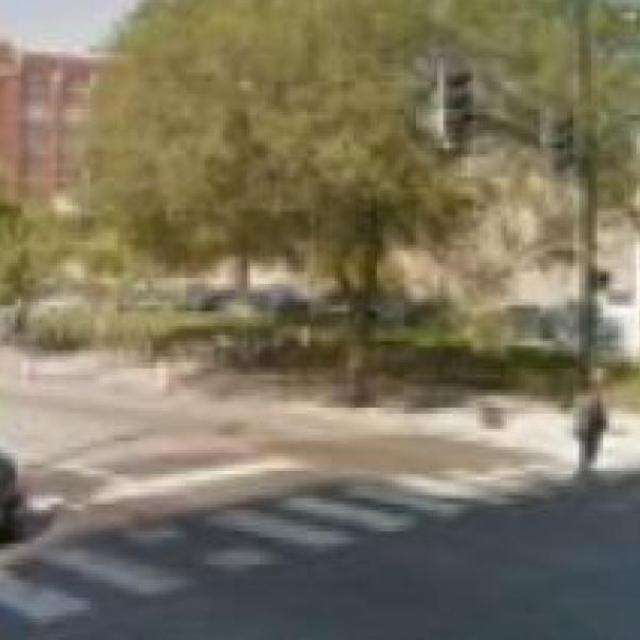zebra: (0, 438, 632, 640)
